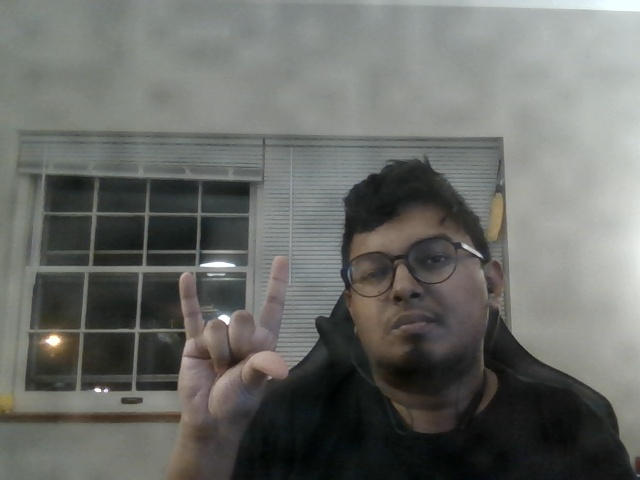ilikeyou: (154, 250, 309, 431)
